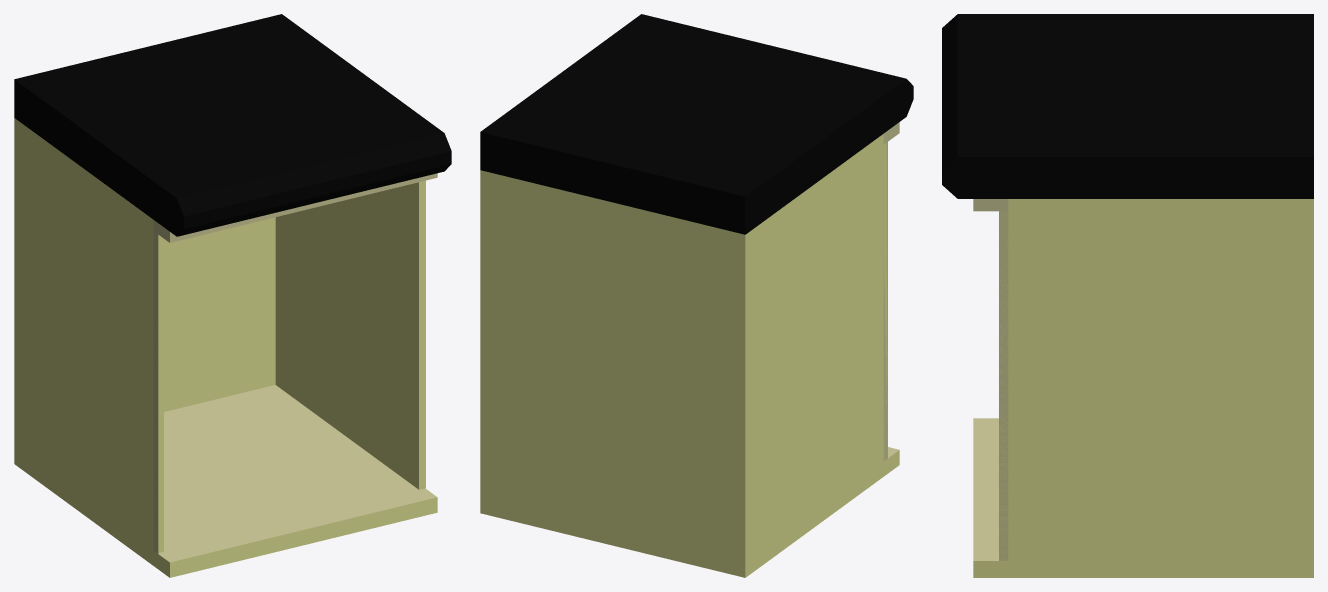
The model's file is EncimeraIzq.fbx.
The picture shows the model from 3 angles, left to right: view 1: azimuth 30°, elevation 25°; view 2: azimuth 150°, elevation 25°; view 3: azimuth 270°, elevation 25°; orthographic projection. The views are drawn at different scales.
Parts seen in each view (by area): view 1: EnzimeraIzq; view 2: EnzimeraIzq; view 3: EnzimeraIzq.
Boxes of the visible parts, bbox=[...] form: EnzimeraIzq: bbox=[14, 14, 451, 577]; EnzimeraIzq: bbox=[480, 14, 913, 577]; EnzimeraIzq: bbox=[942, 14, 1313, 577].
Size of the model in its own units: 199 by 273 by 218.
